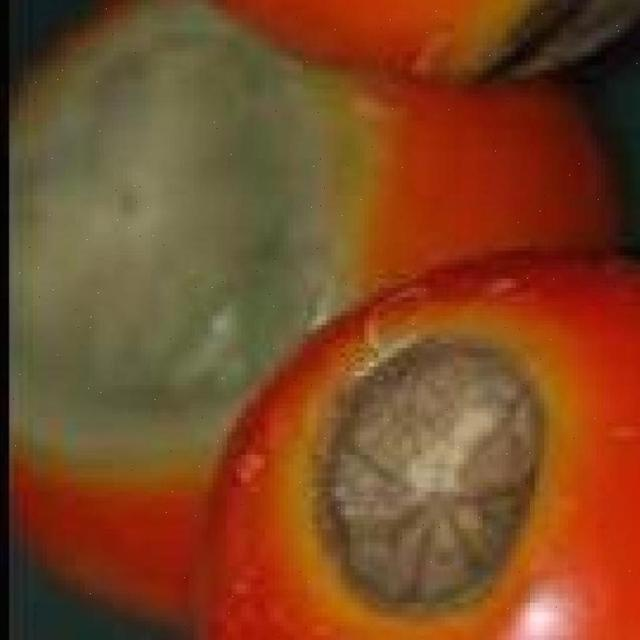Blossom End Rot Fruit: (114, 38, 362, 325)
